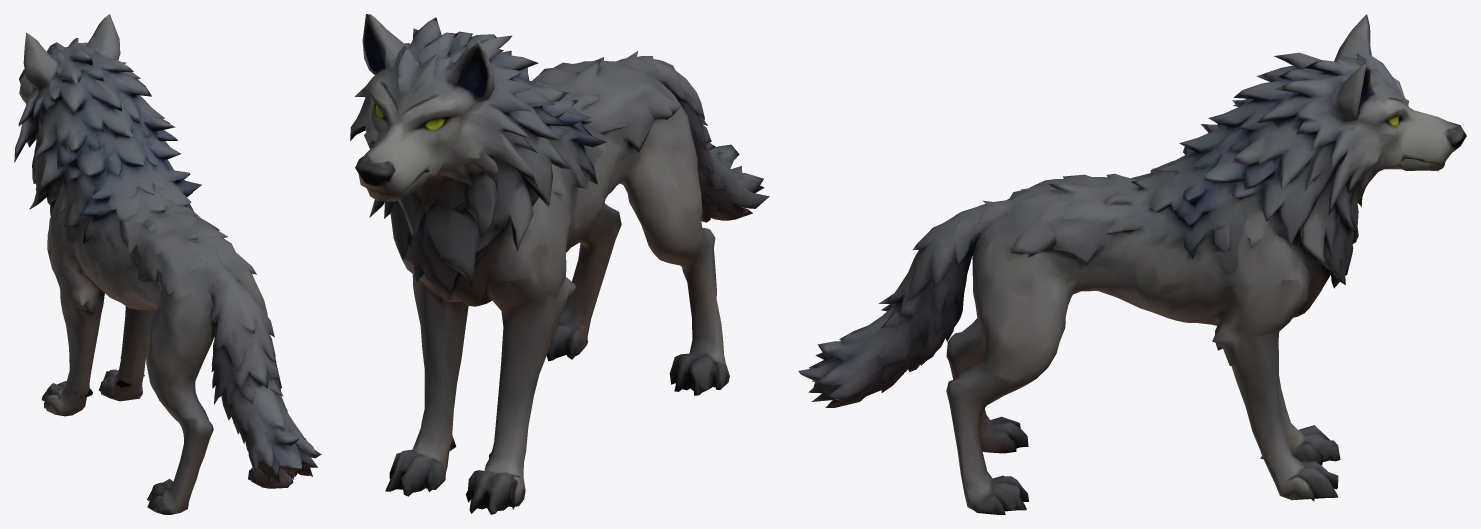
Rendered from mob_wolf.glb.
3 renders of one model, left to right at view 1: azimuth 30°, elevation 25°; view 2: azimuth 150°, elevation 25°; view 3: azimuth 270°, elevation 25°, orthographic. The views are drawn at different scales.
Visible parts, largest first — view 1: tripo_node_dbc37bb4-e544-45d1-ba56-a04a98efe72f; view 2: tripo_node_dbc37bb4-e544-45d1-ba56-a04a98efe72f; view 3: tripo_node_dbc37bb4-e544-45d1-ba56-a04a98efe72f.
Part boxes in pixels (box(x1,y1,x2,y2)): tripo_node_dbc37bb4-e544-45d1-ba56-a04a98efe72f: box(14, 14, 321, 514); tripo_node_dbc37bb4-e544-45d1-ba56-a04a98efe72f: box(350, 14, 769, 514); tripo_node_dbc37bb4-e544-45d1-ba56-a04a98efe72f: box(798, 14, 1466, 514).
Bounding box in the file's own units: 0.2901 × 0.7199 × 1.
Materials: 1 (1 with a texture image).
